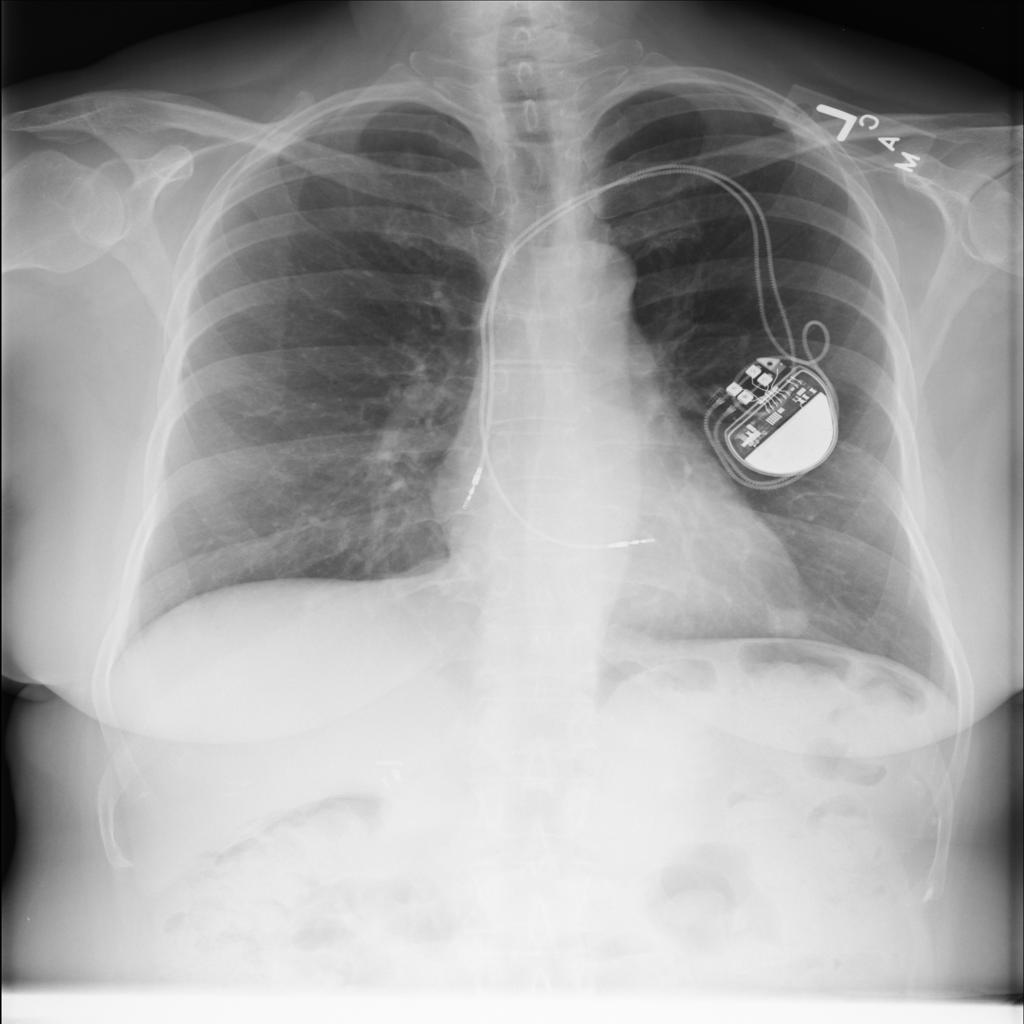nodule: (745, 588, 829, 648)
